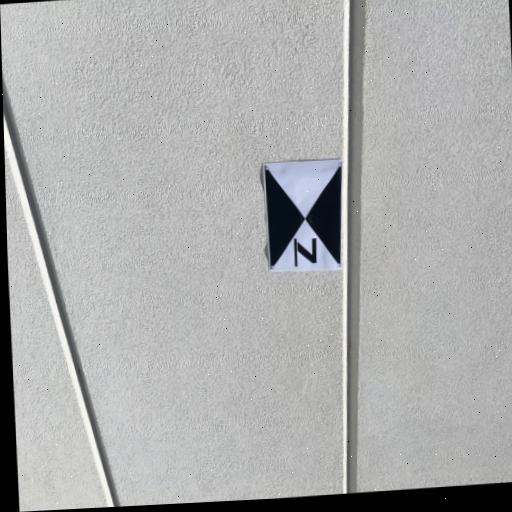target7: (263, 157, 343, 275)
